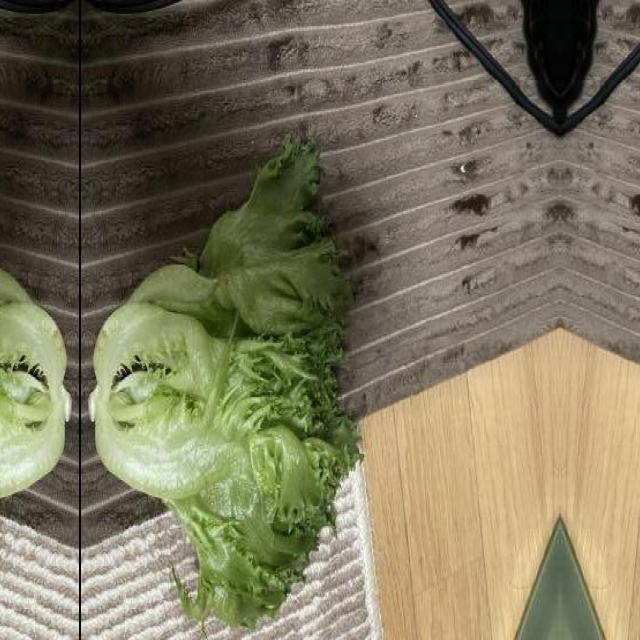healthy: (93, 130, 371, 630), (0, 129, 67, 630)
